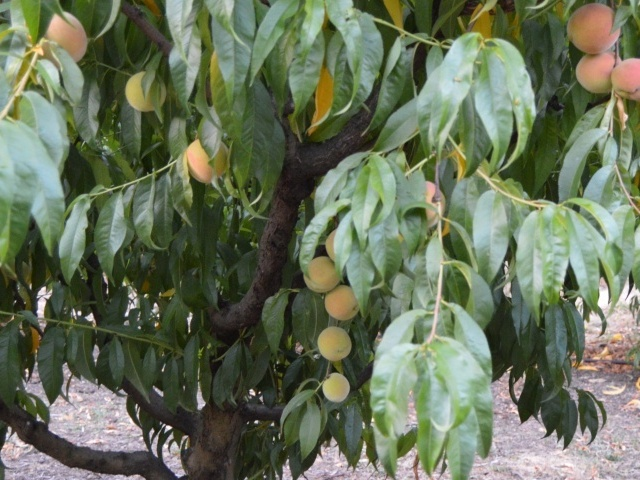peach: (561, 1, 624, 57), (41, 9, 94, 69), (182, 133, 235, 185), (571, 49, 626, 99), (122, 66, 171, 114), (298, 252, 341, 296), (322, 280, 365, 322), (609, 53, 640, 110), (313, 322, 355, 364), (417, 179, 449, 230), (322, 220, 349, 268), (320, 370, 353, 405)
